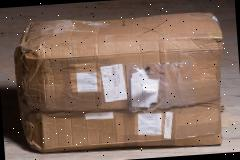paper: (12, 9, 230, 158), (125, 60, 196, 112), (128, 68, 161, 110), (100, 63, 128, 102), (67, 62, 98, 93), (136, 112, 164, 136), (76, 71, 98, 92), (162, 110, 174, 138), (84, 111, 113, 120)
